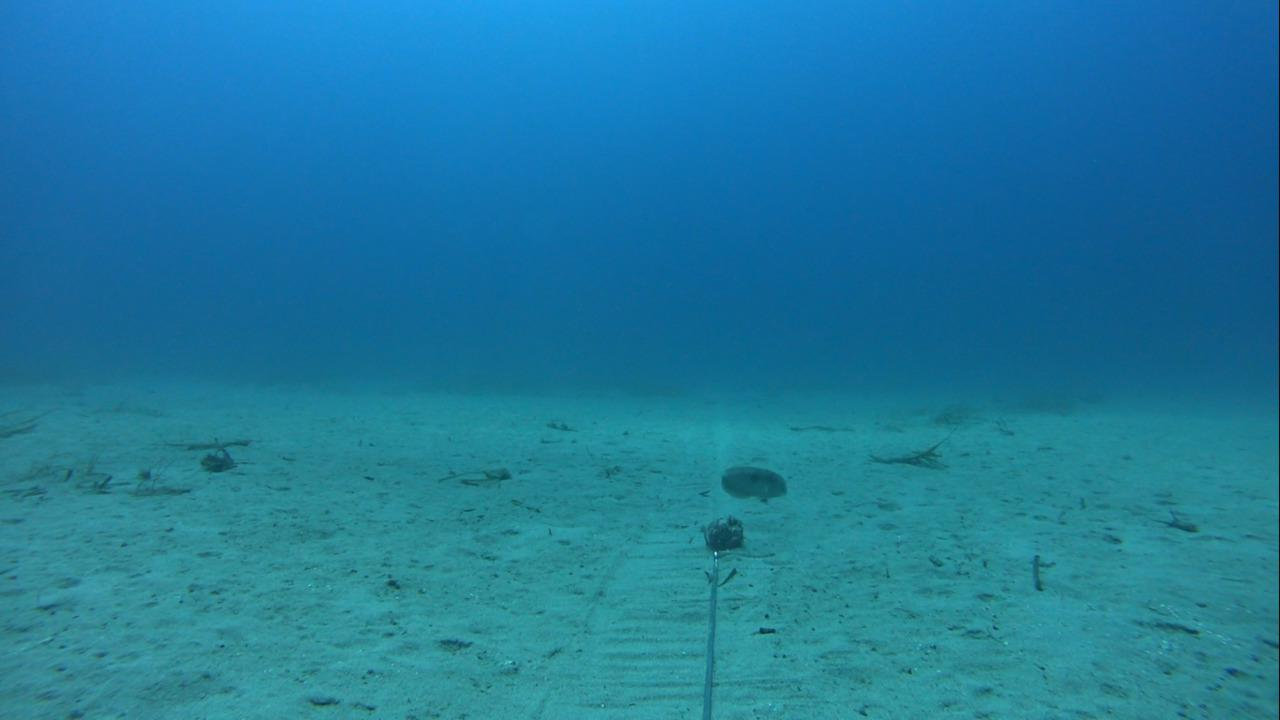raor: (711, 463, 791, 503)
